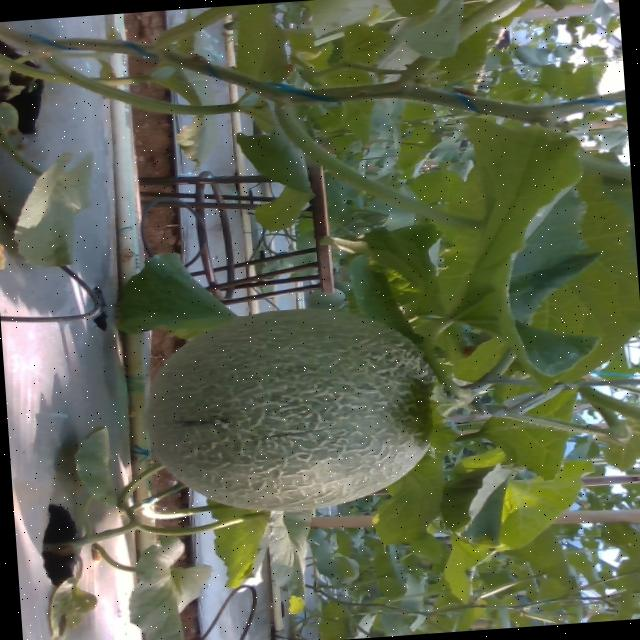melon: (146, 310, 432, 510)
